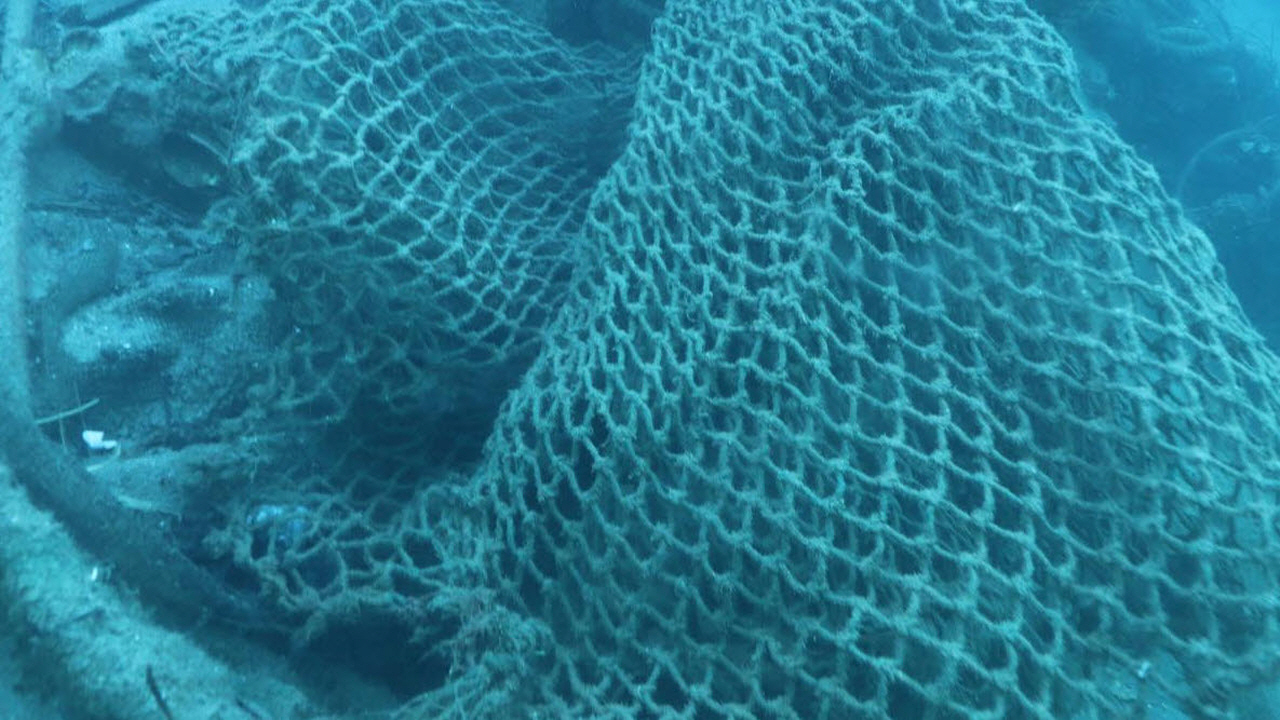fish net: (235, 0, 1280, 720)
